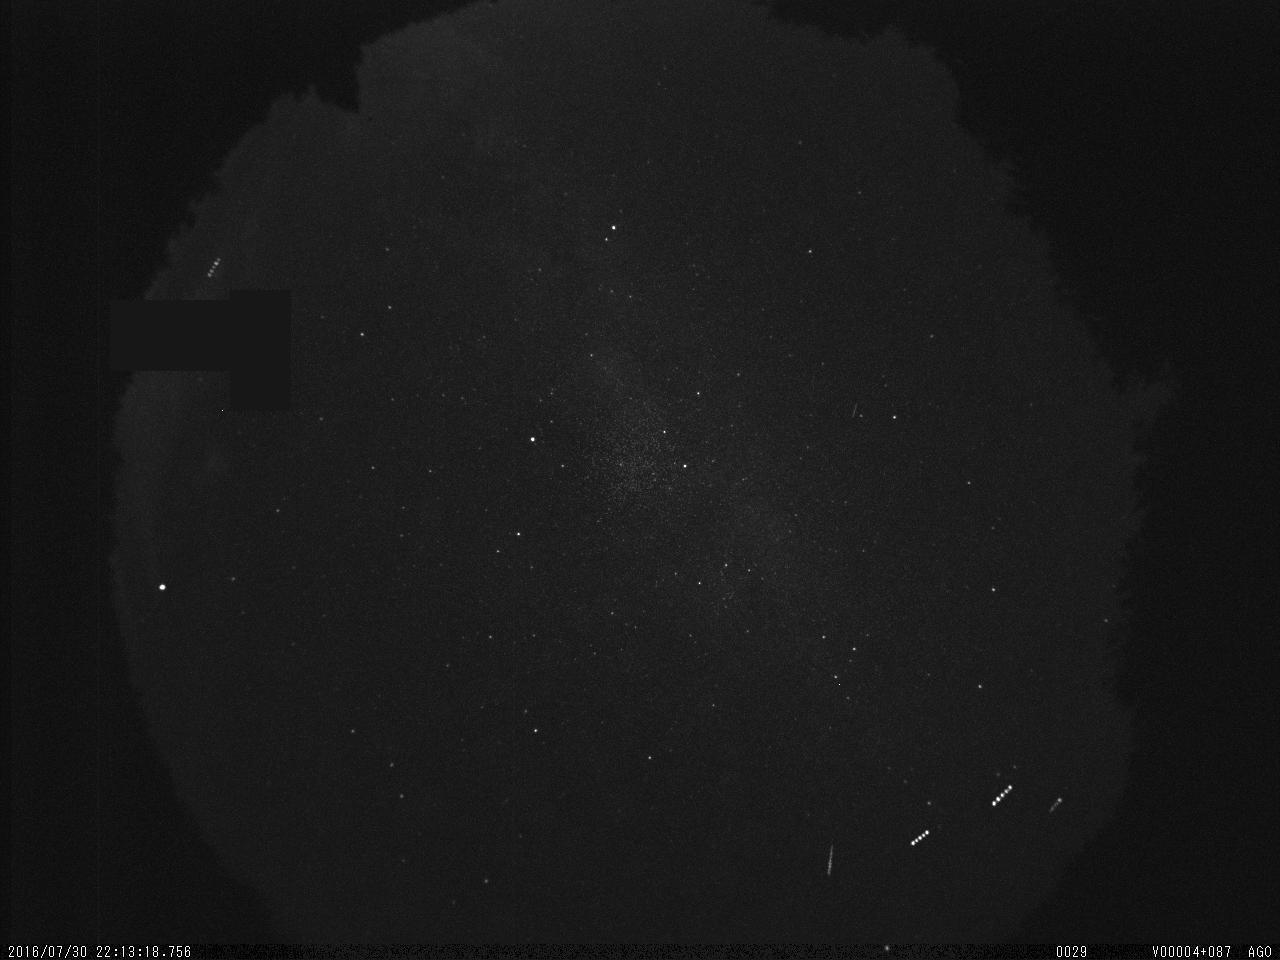meteor: (818, 833, 845, 886)
satelite: (986, 775, 1018, 815), (196, 252, 227, 285), (1042, 791, 1071, 818), (905, 825, 935, 850)
